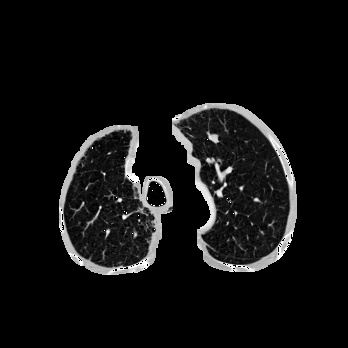PN: (210, 134, 218, 142)
